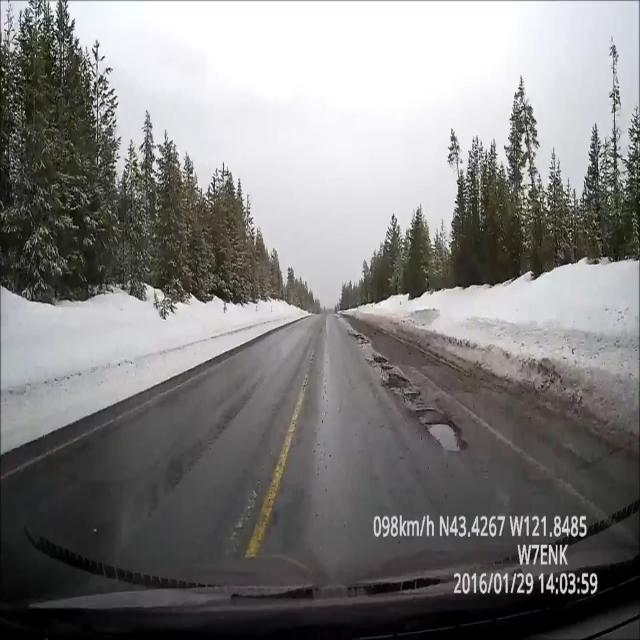Pothole: (407, 403, 474, 460), (365, 356, 416, 391), (348, 328, 372, 348)
